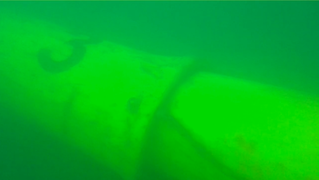3: (37, 31, 103, 73)
pipe: (1, 6, 319, 180)
